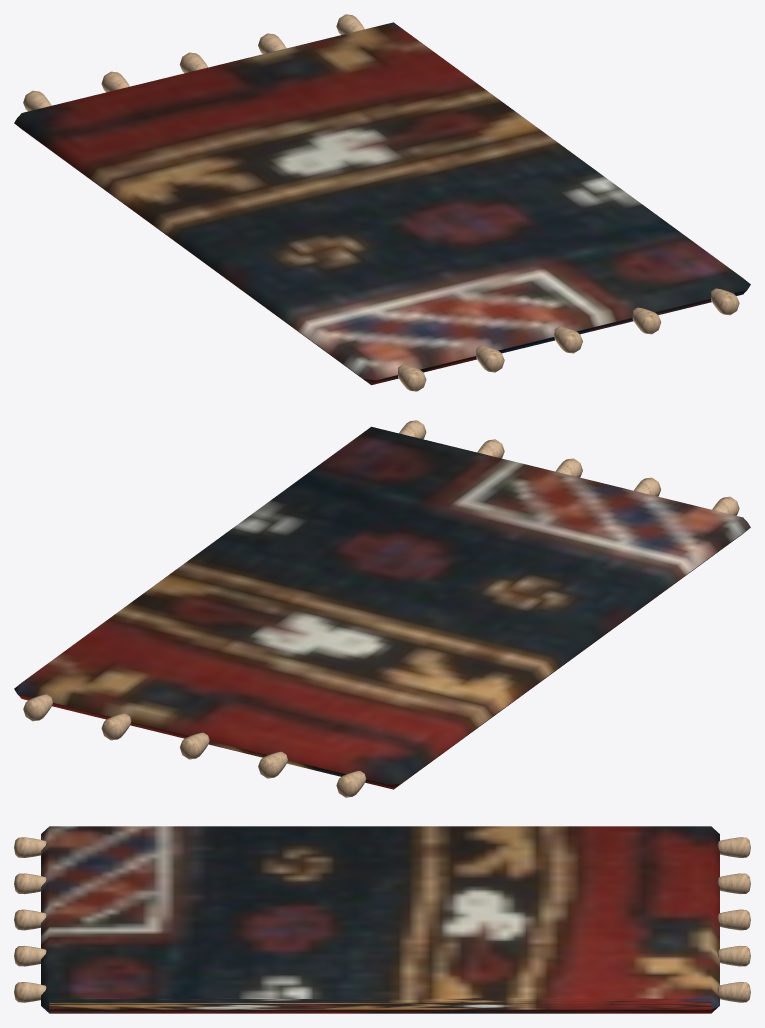
File: rug.fbx
3 renders of one model, top to bottom at view 1: azimuth 30°, elevation 25°; view 2: azimuth 150°, elevation 25°; view 3: azimuth 270°, elevation 25°, orthographic. The views are drawn at different scales.
Parts seen in each view (by area): view 1: Rug; view 2: Rug; view 3: Rug.
Boxes of the visible parts, left/top/right/bottom form: Rug: left=14, top=14, right=750, bottom=391; Rug: left=14, top=420, right=750, bottom=797; Rug: left=14, top=826, right=750, bottom=1013.
Bounding box in the file's own units: 4.95 × 8.61 × 0.2506.
